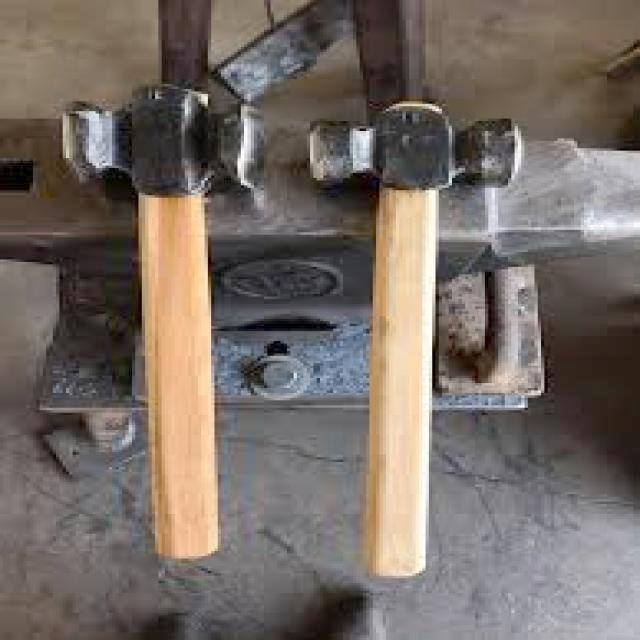hammer: (294, 95, 528, 585), (56, 80, 267, 565)
